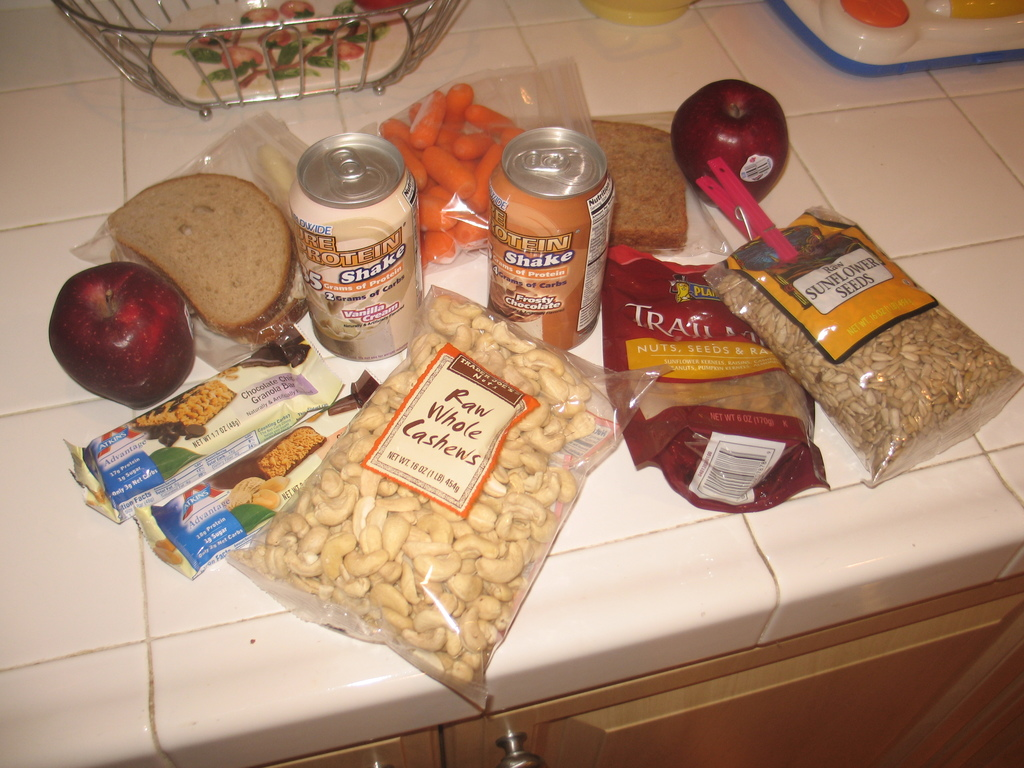Apple: (46, 261, 181, 407), (667, 76, 794, 211)
